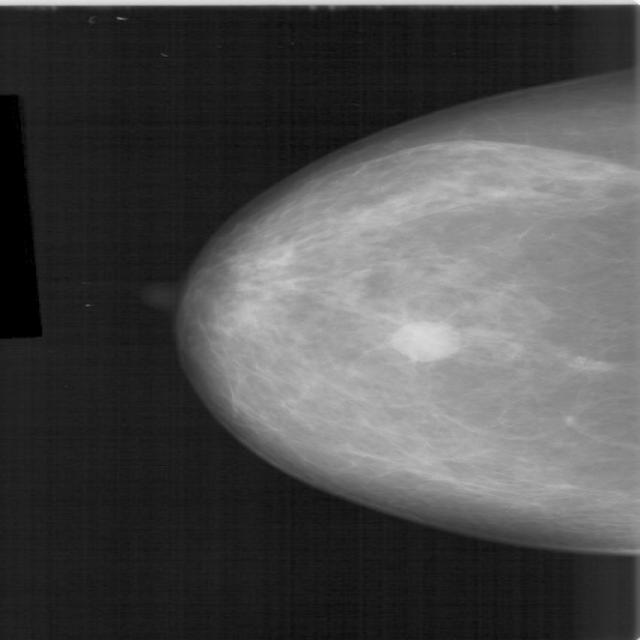tumour: (387, 320, 459, 360)
